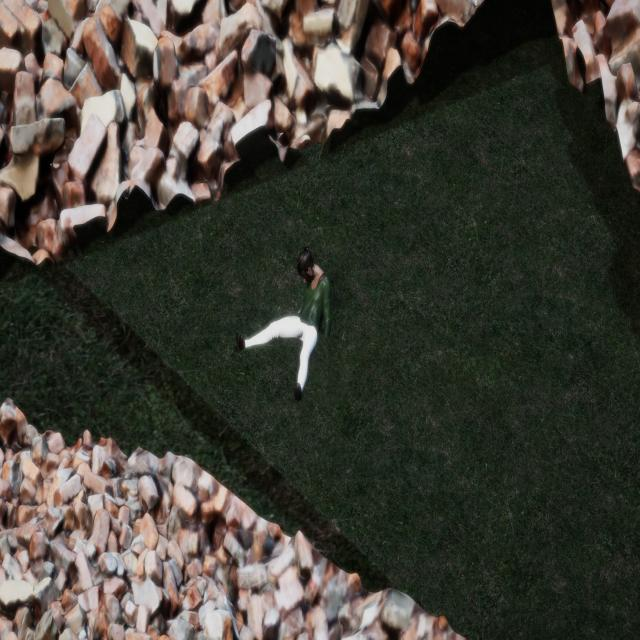Human: (224, 239, 342, 413)
